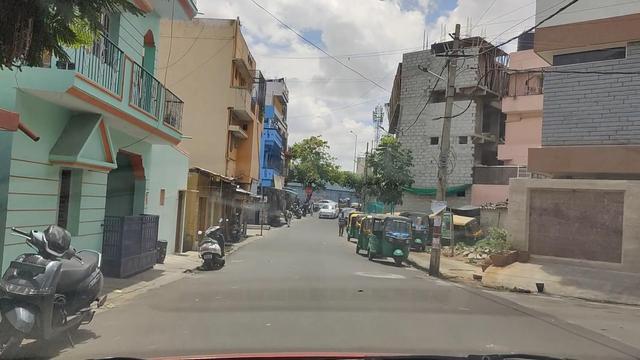LMV: (370, 218, 408, 262)
RoadDamages: (351, 268, 404, 282)
